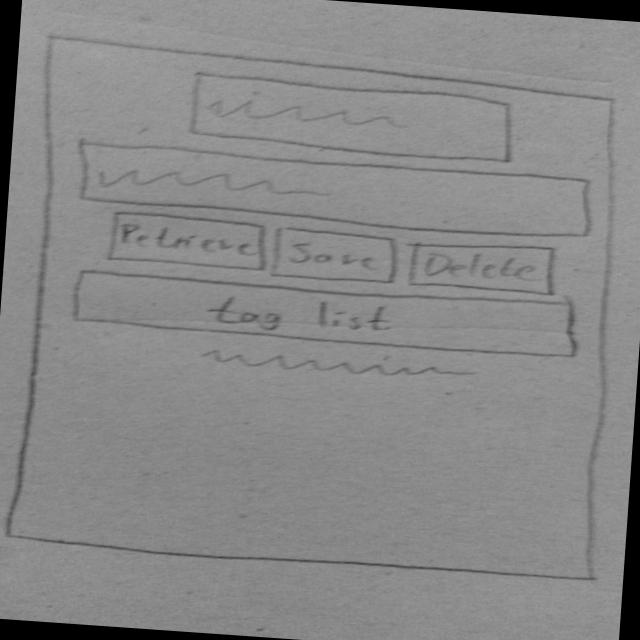button: (71, 266, 583, 360), (103, 206, 272, 276), (404, 235, 568, 303), (267, 228, 402, 285)
container: (0, 20, 640, 591)
input: (62, 134, 610, 245), (171, 66, 533, 166)
text: (181, 336, 488, 392)
